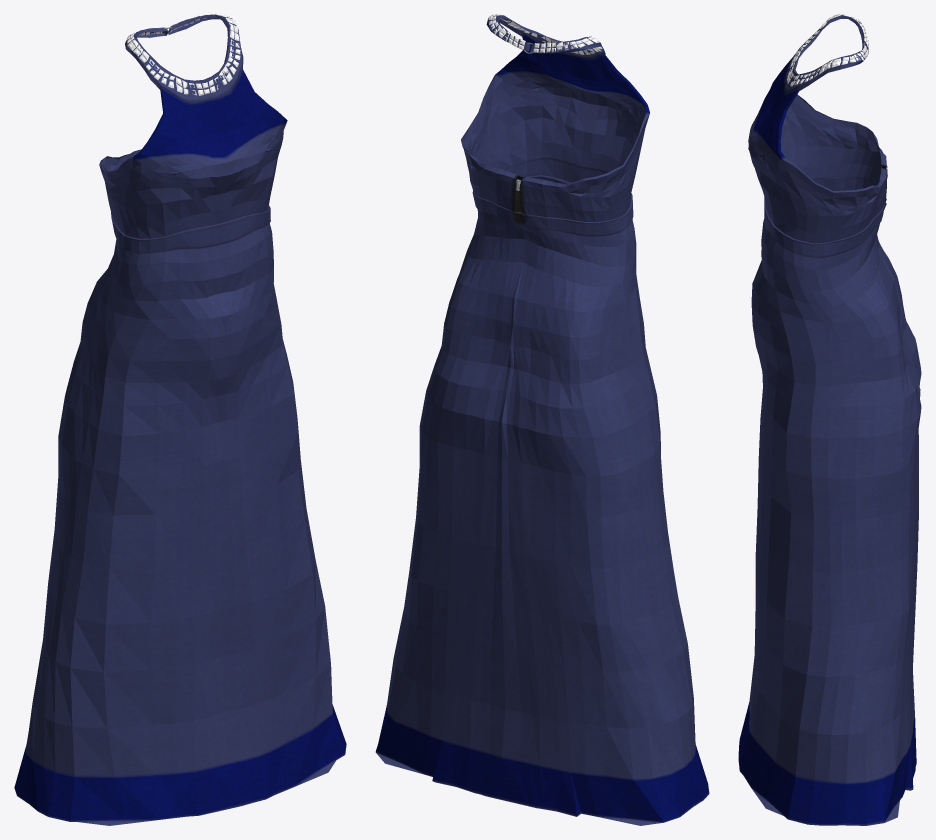
File: mhw_punkduck_evening_gown.glb
3 views of the same model, side by side, from view 1: azimuth 30°, elevation 25°; view 2: azimuth 150°, elevation 25°; view 3: azimuth 270°, elevation 25° (orthographic). The views are drawn at different scales.
Parts seen in each view (by area): view 1: mhw_punkduck_evening_gown; view 2: mhw_punkduck_evening_gown; view 3: mhw_punkduck_evening_gown.
Part boxes in pixels (left/top/right/bottom): mhw_punkduck_evening_gown: left=14, top=14, right=346, bottom=825; mhw_punkduck_evening_gown: left=375, top=14, right=709, bottom=825; mhw_punkduck_evening_gown: left=738, top=14, right=921, bottom=825.
Bounding box in the file's own units: 0.6617 × 1.55 × 0.3568.
1 material, 1 textured.
